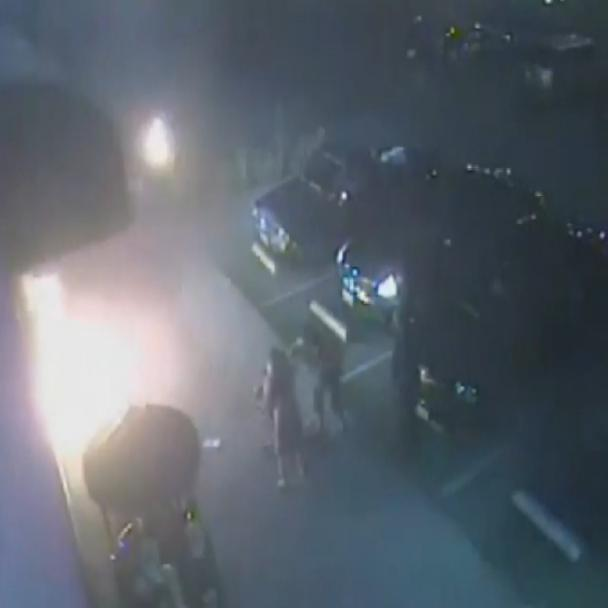Fire: (6, 52, 264, 561)
